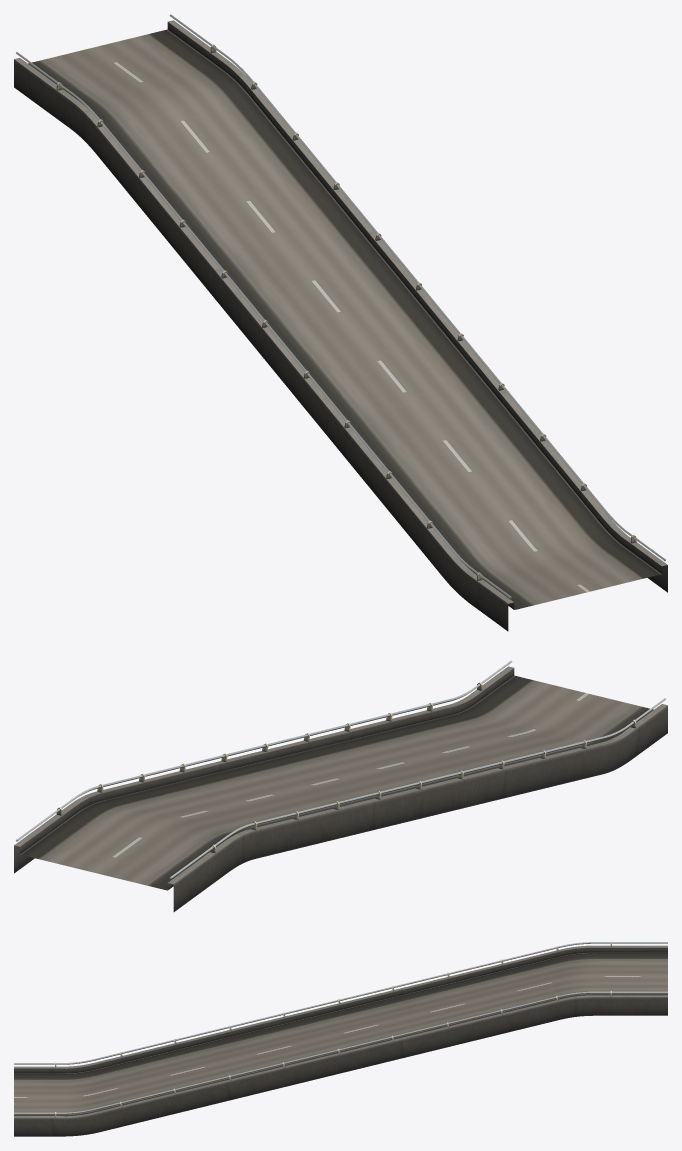
Rendered from Track1.FBX.
3 renders of one model, top to bottom at view 1: azimuth 30°, elevation 25°; view 2: azimuth 150°, elevation 25°; view 3: azimuth 270°, elevation 25°, orthographic. The views are drawn at different scales.
Parts seen in each view (by area): view 1: Road002; view 2: Road002; view 3: Road002.
Part boxes in pixels (x1,y1,x2,y2): Road002: (14,14,667,631); Road002: (14,660,667,911); Road002: (14,941,667,1136).
Size of the model in its own units: 425 by 556 by 2282.
1 material, 1 textured.
